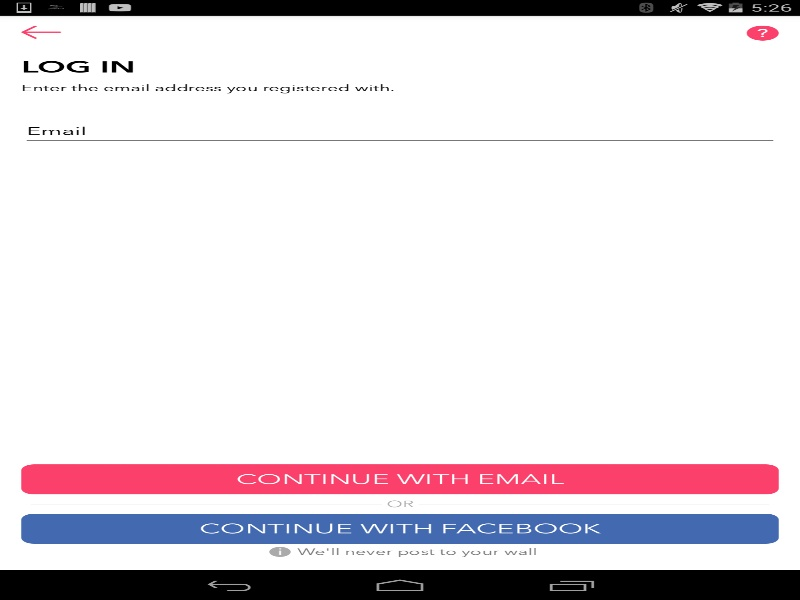Button: (21, 464, 778, 494), (21, 513, 778, 543)
Input: (21, 119, 778, 145)
